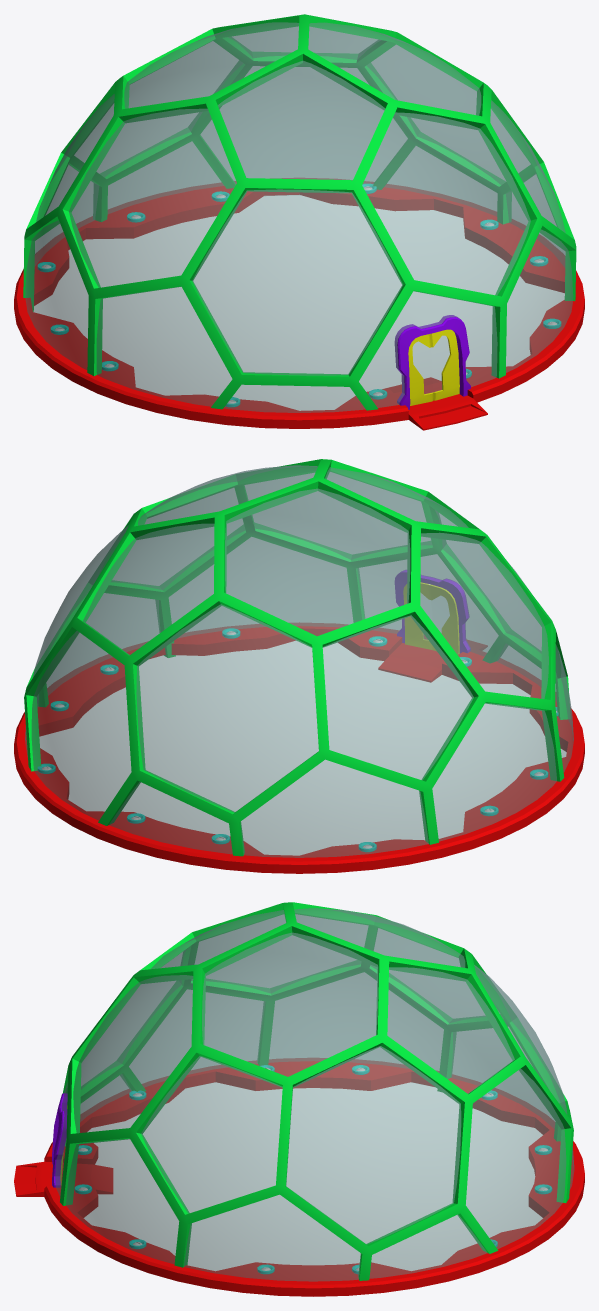
The picture shows the model from 3 angles, top to bottom: view 1: azimuth 30°, elevation 25°; view 2: azimuth 150°, elevation 25°; view 3: azimuth 270°, elevation 25°; orthographic projection. The views are drawn at different scales.
Visible parts, largest first — view 1: Capsule; view 2: Capsule; view 3: Capsule.
Boxes of the visible parts, left/top/right/bottom form: Capsule: left=14, top=14, right=584, bottom=430; Capsule: left=14, top=459, right=584, bottom=873; Capsule: left=14, top=902, right=584, bottom=1296.
Size of the model in its own units: 17.62 by 9.2 by 18.52.
